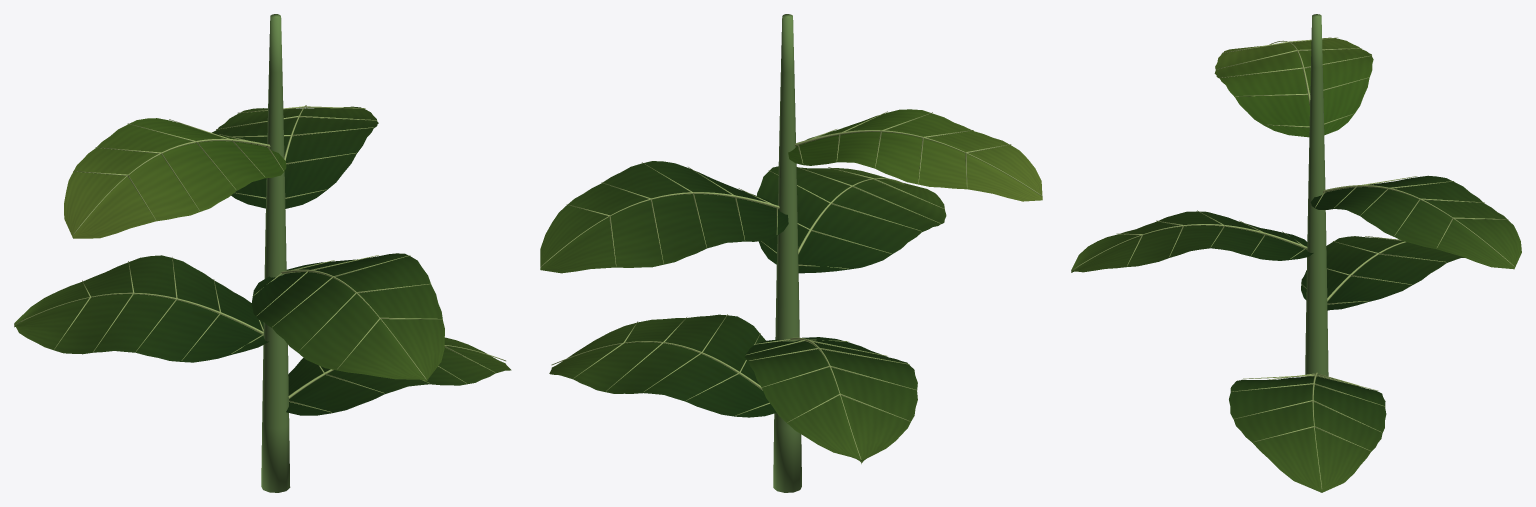
File: poppy-04.glb
The picture shows the model from 3 angles, left to right: view 1: azimuth 30°, elevation 25°; view 2: azimuth 150°, elevation 25°; view 3: azimuth 270°, elevation 25°; orthographic projection. The views are drawn at different scales.
Parts seen in each view (by area): view 1: poppy_stage_04_leaf_veins.006, poppy_stage_04_young_leaf.006, poppy_stage_04_stem_fibres.006, poppy_stage_04_raised_midveins.006; view 2: poppy_stage_04_leaf_veins.006, poppy_stage_04_young_leaf.006, poppy_stage_04_stem_fibres.006, poppy_stage_04_raised_midveins.006; view 3: poppy_stage_04_leaf_veins.006, poppy_stage_04_young_leaf.006, poppy_stage_04_stem_fibres.006, poppy_stage_04_raised_midveins.006.
Boxes of the visible parts, <box> form: poppy_stage_04_leaf_veins.006: <box>14,106,511,415</box>; poppy_stage_04_young_leaf.006: <box>64,118,286,238</box>; poppy_stage_04_stem_fibres.006: <box>261,14,290,492</box>; poppy_stage_04_raised_midveins.006: <box>15,105,505,412</box>; poppy_stage_04_leaf_veins.006: <box>540,161,946,463</box>; poppy_stage_04_young_leaf.006: <box>788,109,1042,201</box>; poppy_stage_04_stem_fibres.006: <box>773,14,801,492</box>; poppy_stage_04_raised_midveins.006: <box>540,111,1042,461</box>; poppy_stage_04_leaf_veins.006: <box>1071,175,1521,492</box>; poppy_stage_04_young_leaf.006: <box>1214,37,1373,137</box>; poppy_stage_04_stem_fibres.006: <box>1305,14,1328,377</box>; poppy_stage_04_raised_midveins.006: <box>1071,37,1514,489</box>.
Size of the model in its own units: 0.1467 by 0.1427 by 0.1355.
4 materials, 2 textured.
